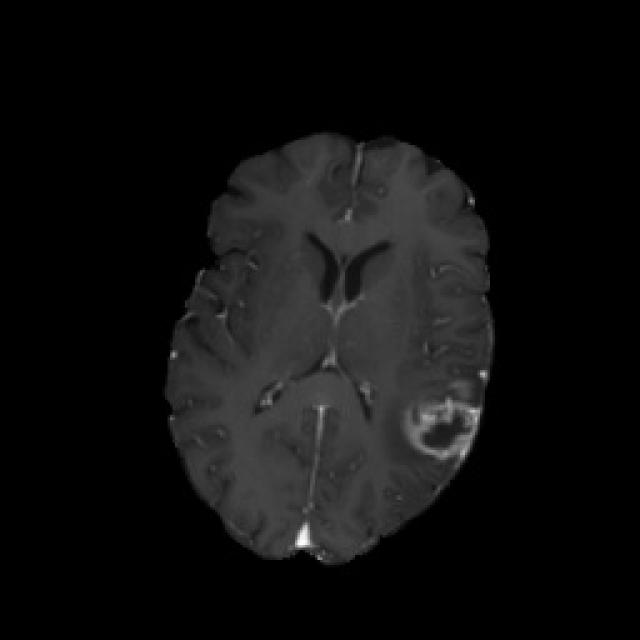negative: (405, 400, 480, 460)
